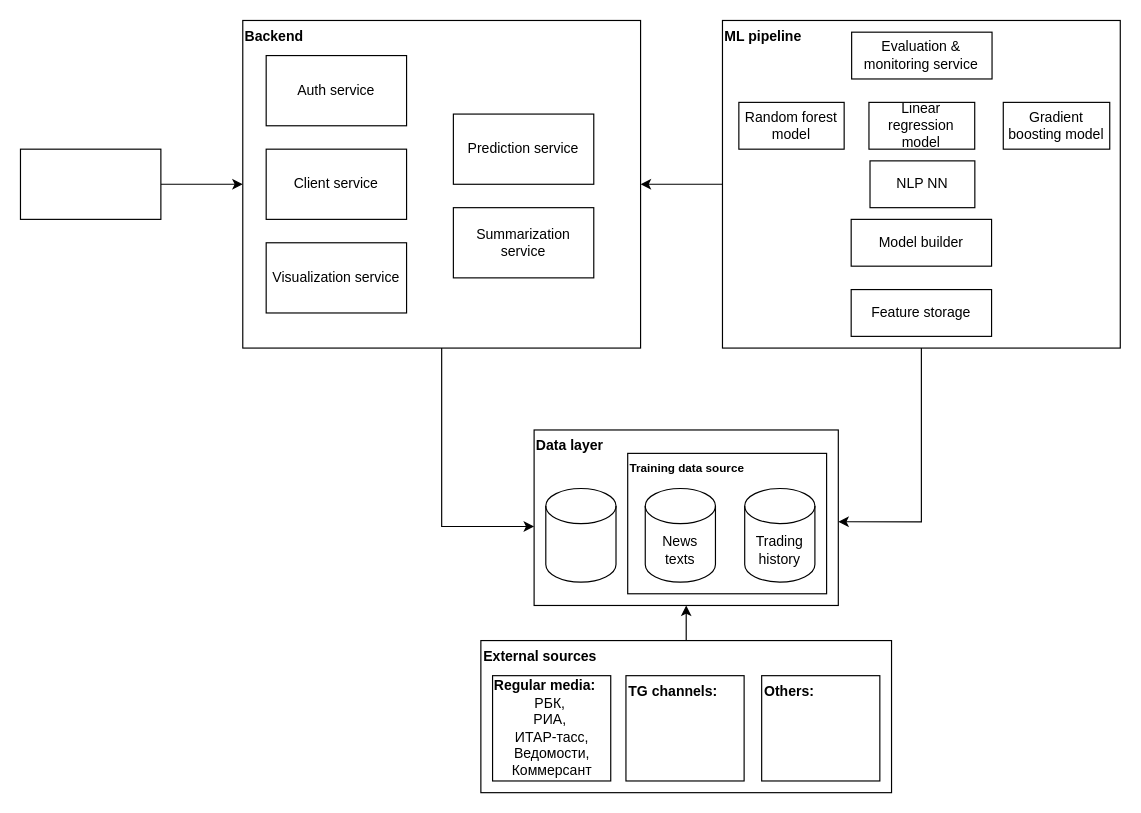
Image size: 1141x813. Some labels were removed from this diagram. The shapes that lost their labels are listed below. From the top down, each one's centre as x and y in pixels, then its label:
(90,183): Frontend
(580,534): Users
